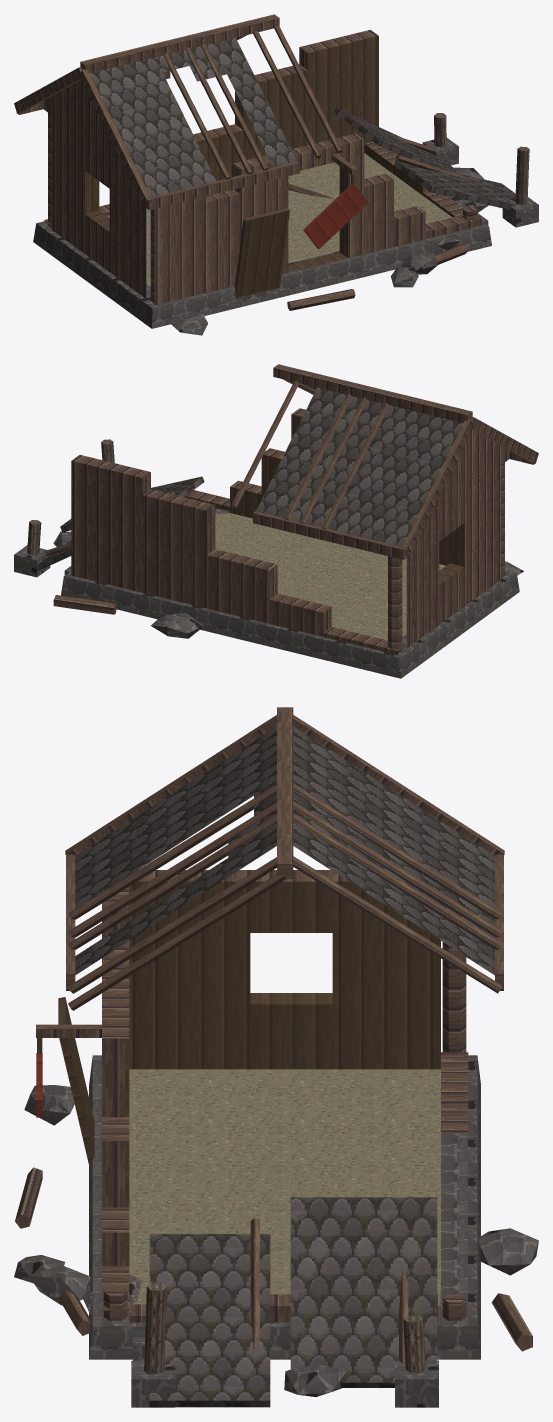
Rendered from trading_post_stage0.glb.
The picture shows the model from 3 angles, top to bottom: view 1: azimuth 30°, elevation 25°; view 2: azimuth 150°, elevation 25°; view 3: azimuth 270°, elevation 25°; orthographic projection. The views are drawn at different scales.
Parts seen in each view (by area): view 1: trading_post_stage0; view 2: trading_post_stage0; view 3: trading_post_stage0.
Part boxes in pixels (x1,y1,x2,y2): trading_post_stage0: [14, 14, 538, 335]; trading_post_stage0: [14, 364, 538, 678]; trading_post_stage0: [14, 707, 538, 1407].
Bounding box in the file's own units: 8.67 × 4.56 × 5.73.
Materials: 8 (8 with a texture image).
